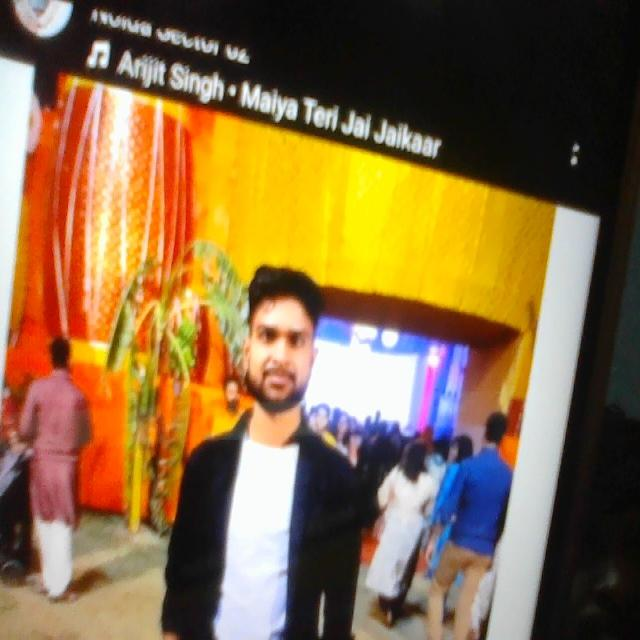fake: (229, 247, 332, 441)
